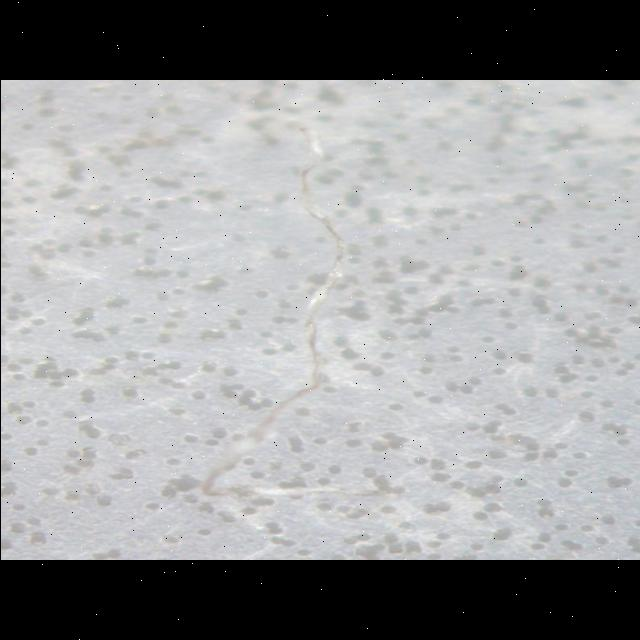Fibre: (196, 122, 407, 504)
